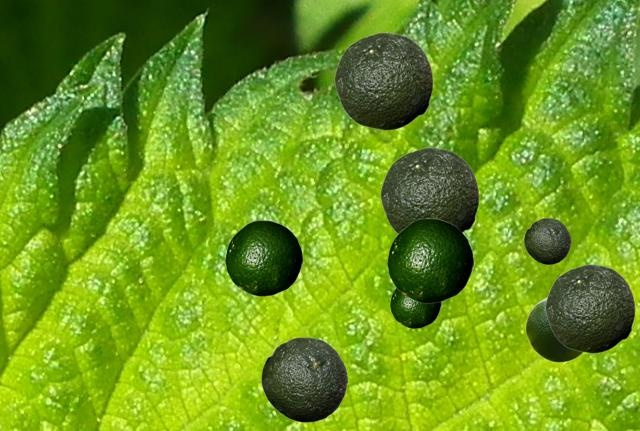calamansi: (334, 32, 432, 129), (380, 147, 478, 233), (545, 264, 634, 352), (387, 218, 473, 302), (261, 337, 347, 421), (225, 220, 302, 295), (525, 297, 583, 361), (524, 218, 570, 263), (390, 288, 440, 327)
